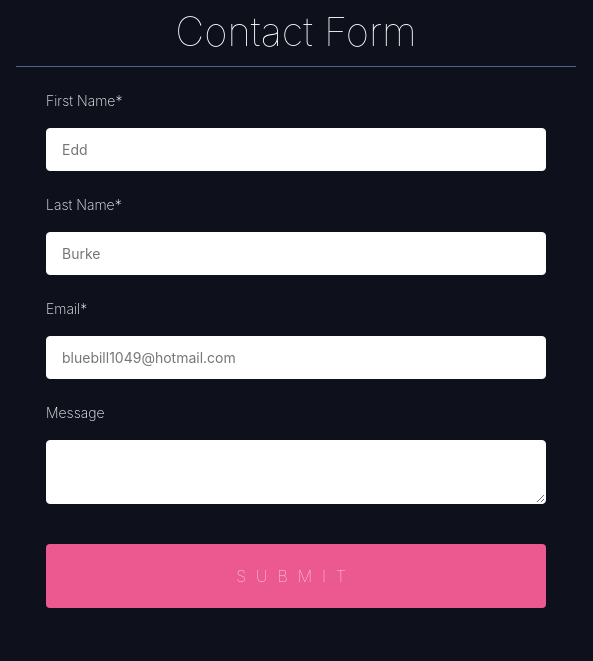
Test: 5 renders ONE error message if user enters a valid first name and last name but no email.
// enters first name
Type "Ricster" into the field labelled "First Name*" at (296, 150), box top-left (46, 128), bottom-right (546, 171)
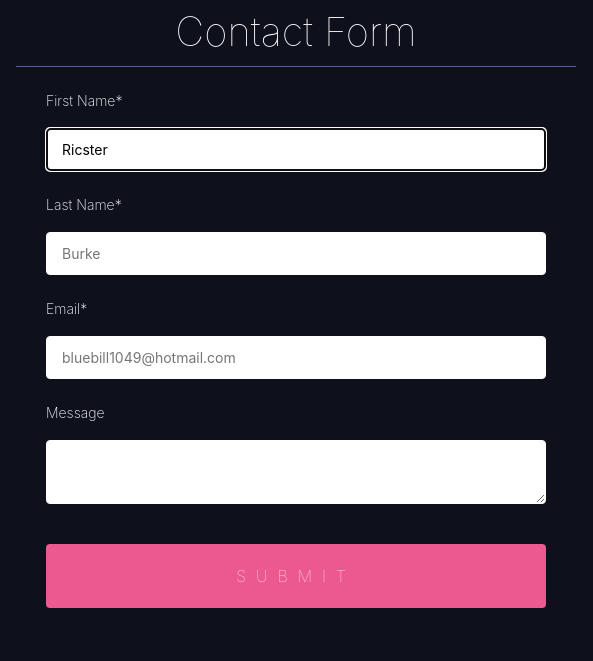
// enters last name
Type "Mansfield" into the field labelled "Last Name*" at (296, 254), box top-left (46, 232), bottom-right (546, 275)
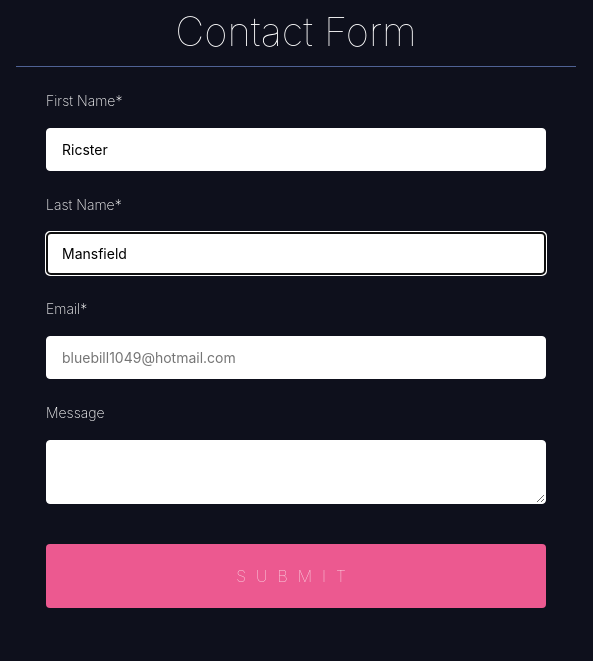
// uses submit button before entering email
Click the button at (296, 576), box top-left (46, 544), bottom-right (546, 608)
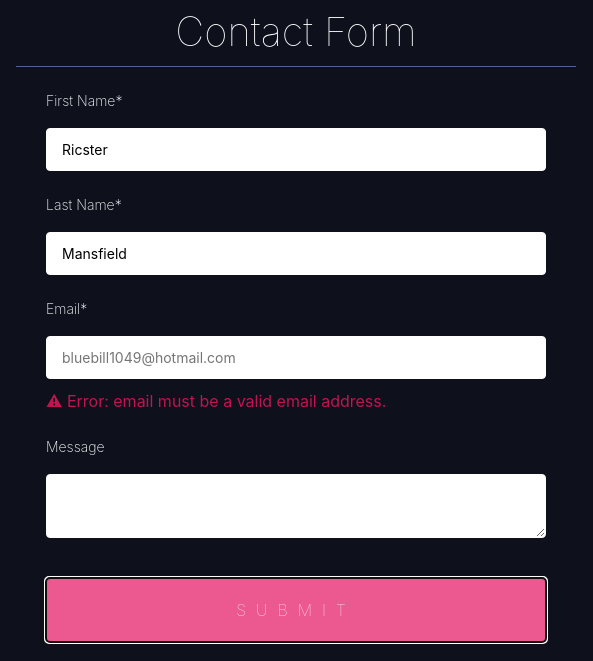
Expected: the text "Error: email must be a valid email address." is shown once, top-left (67, 391), bottom-right (386, 411)
Expected: the number of elements with test id "error" is 1, top-left (67, 391), bottom-right (386, 411)
